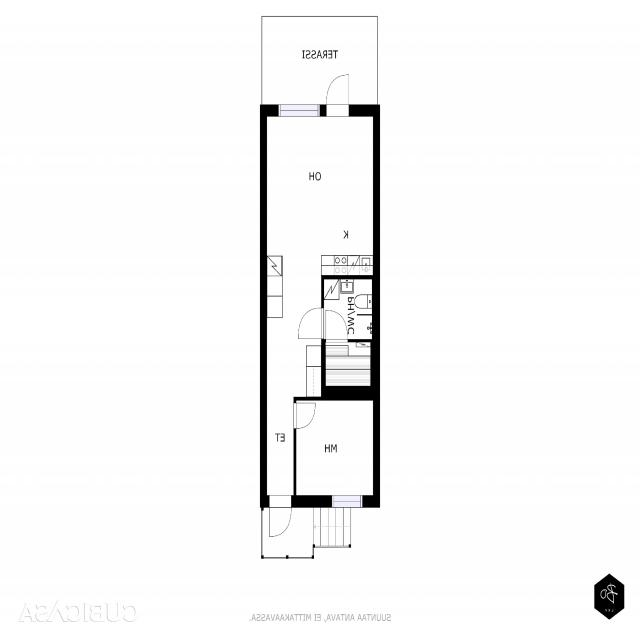door: (326, 75, 349, 116), (269, 495, 291, 536), (298, 308, 324, 339), (326, 310, 347, 342), (294, 403, 315, 428)
